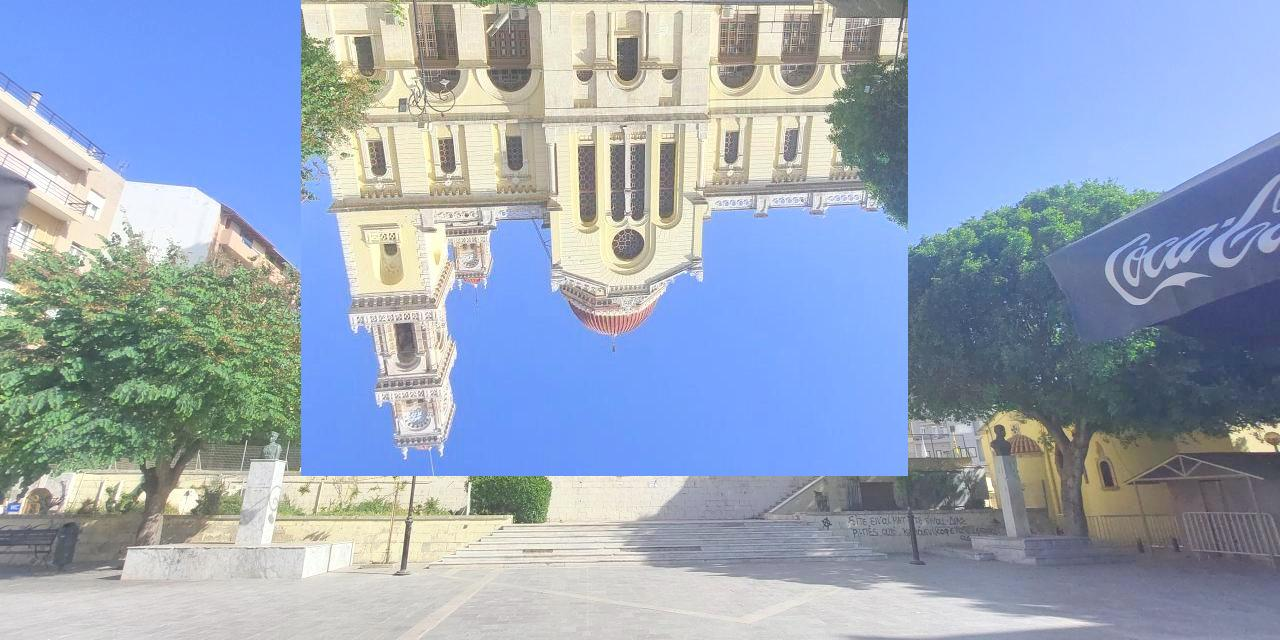Agios Minas: (302, 1, 909, 477)
